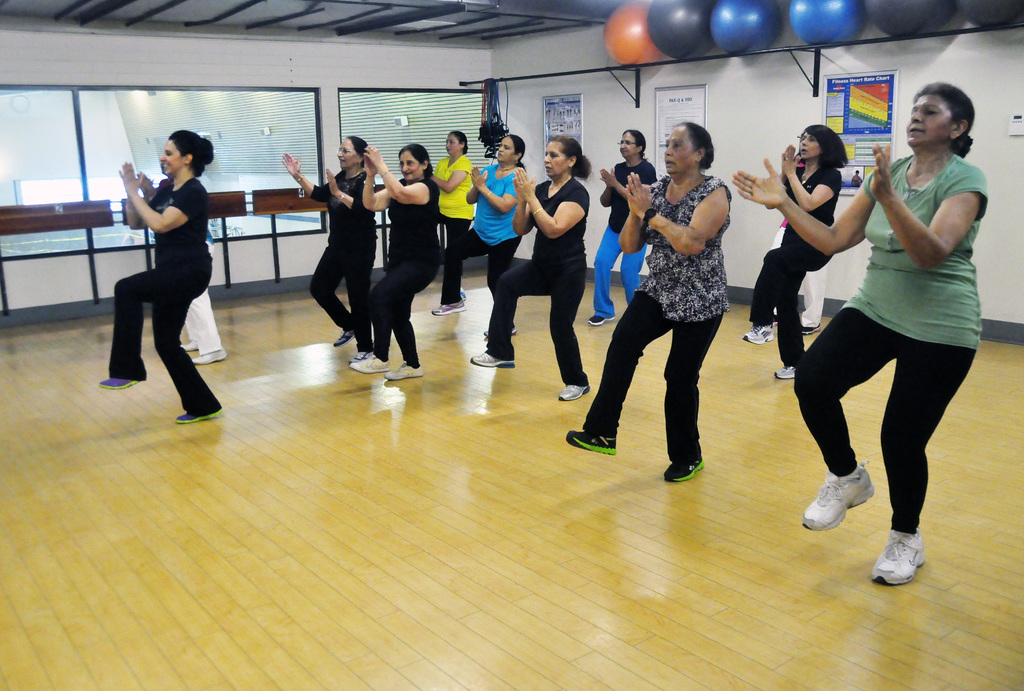Person: (726, 79, 991, 585), (564, 115, 735, 482), (93, 130, 224, 425), (470, 131, 597, 401), (741, 125, 852, 381), (279, 133, 382, 362), (348, 143, 440, 382), (430, 130, 529, 340), (135, 160, 231, 366), (586, 126, 659, 329), (430, 132, 476, 317)
